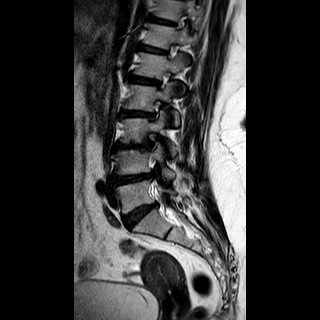RFS0: (151, 66, 176, 94)
RFS3: (144, 98, 169, 126)
